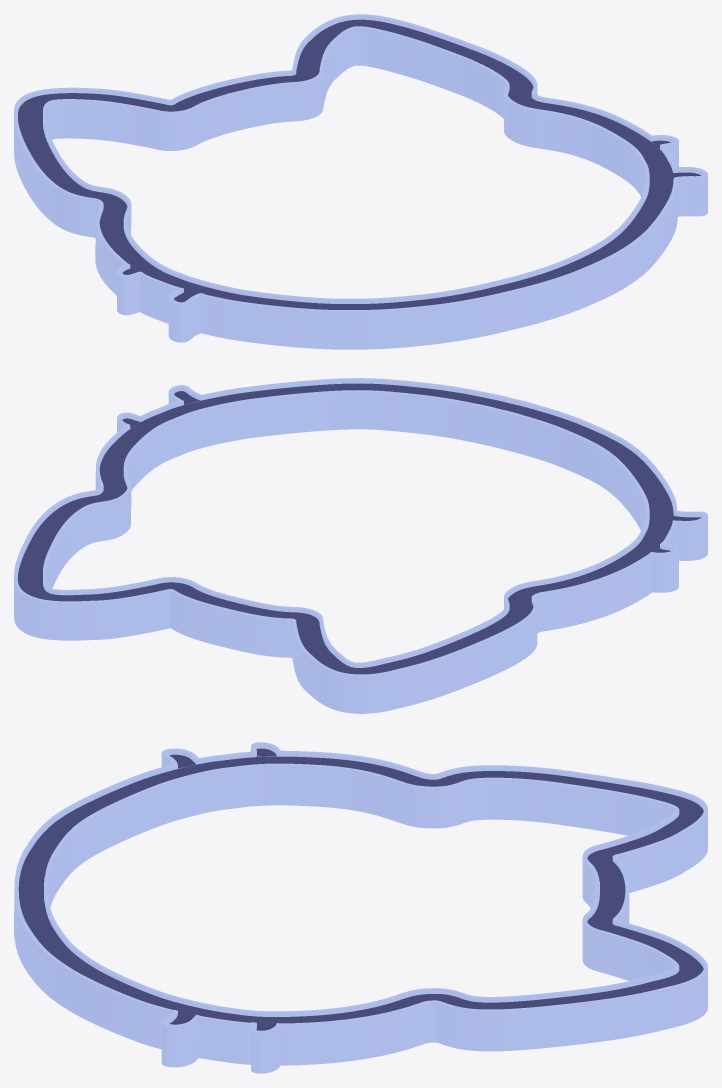
Rendered from Conveyor bridge.glb.
3 renders of one model, top to bottom at view 1: azimuth 30°, elevation 25°; view 2: azimuth 150°, elevation 25°; view 3: azimuth 270°, elevation 25°, orthographic. The views are drawn at different scales.
Parts seen in each view (by area): view 1: ear.001; view 2: ear.001; view 3: ear.001.
Part boxes in pixels (left/top/right/bottom): ear.001: left=14, top=14, right=707, bottom=349; ear.001: left=14, top=378, right=707, bottom=713; ear.001: left=14, top=742, right=707, bottom=1073.
Size of the model in its own units: 4.67 by 0.3101 by 4.71.
